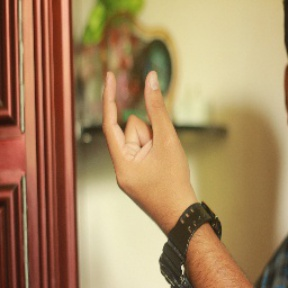U: (91, 62, 190, 195)
